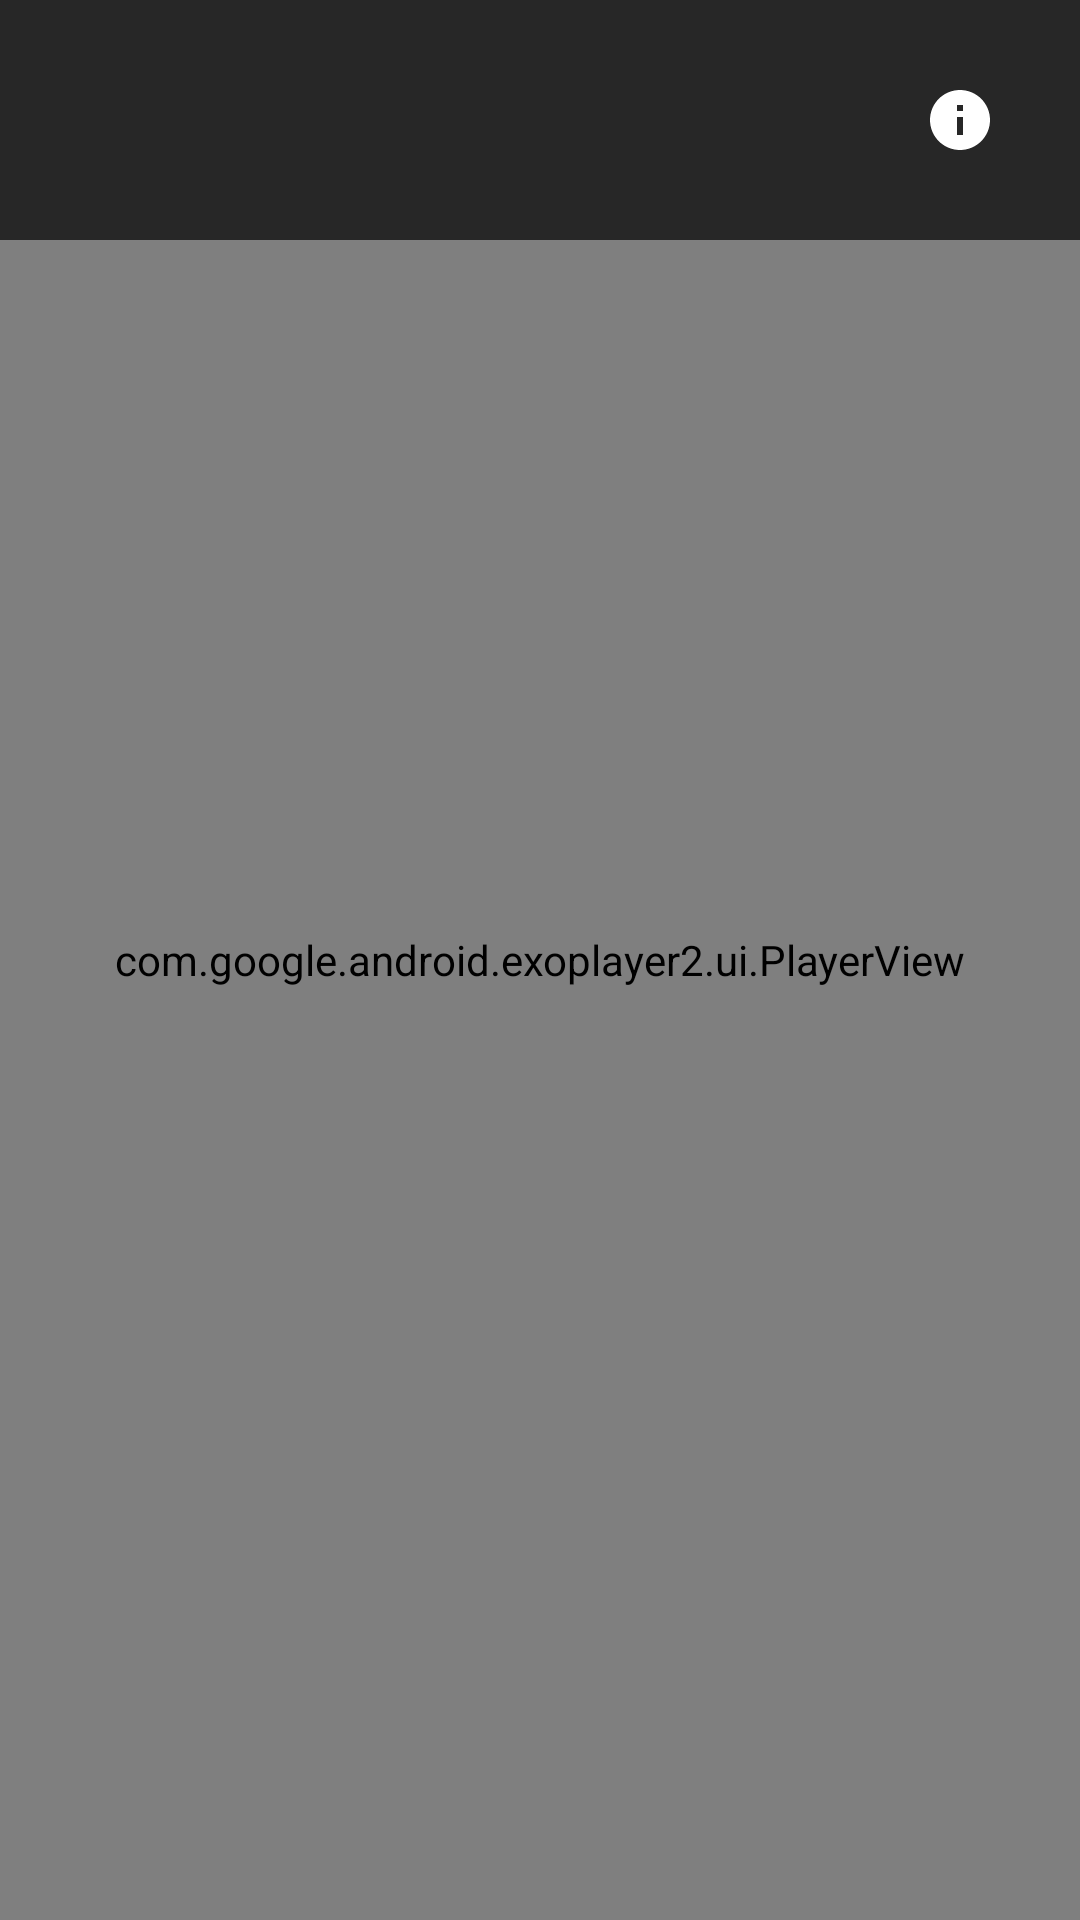

Icon click points for this 1080px×1920px phone screenshot, format point (x, y):
Info: point (960, 120)
